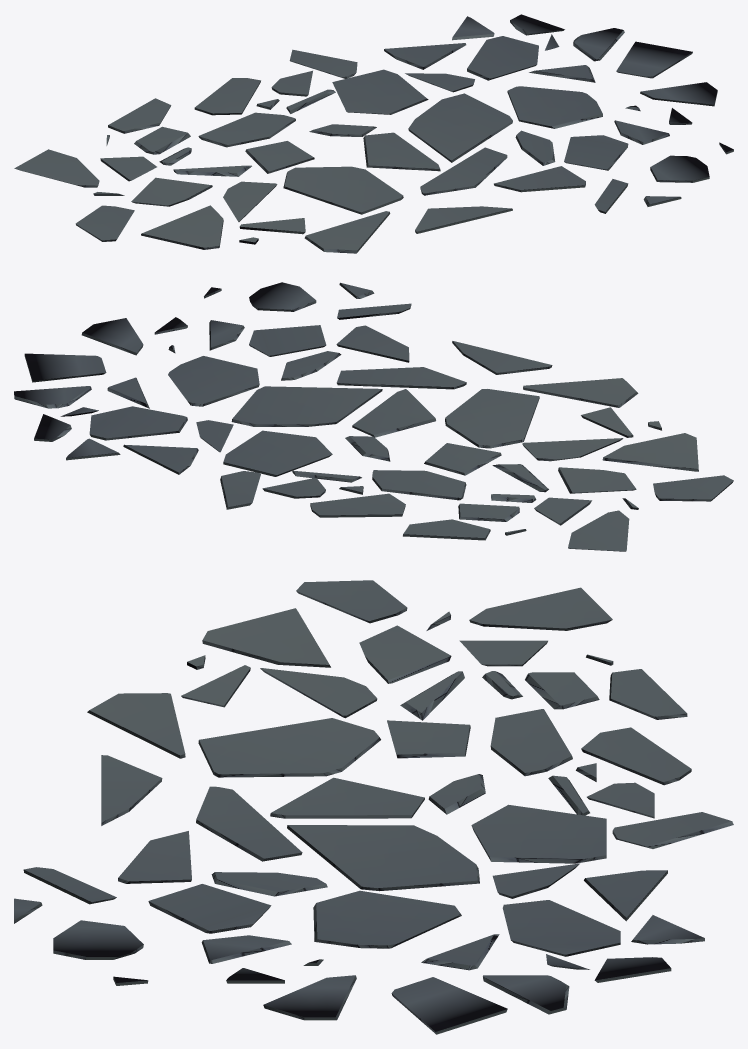
File: asset.glb
3 views of the same model, one above another, from view 1: azimuth 30°, elevation 25°; view 2: azimuth 150°, elevation 25°; view 3: azimuth 270°, elevation 25° (orthographic). The views are drawn at different scales.
Visible parts, largest first — view 1: Cube_cell.036, Cube_cell.017, Cube_cell.026, Cube_cell.037, Cube_cell.009, Cube_cell.052, Cube_cell.005, Cube_cell.025, Cube_cell.004, Cube_cell.032, Cube_cell.039, Cube_cell.045 (+27 smaller); view 2: Cube_cell.036, Cube_cell.017, Cube_cell.037, Cube_cell.026, Cube_cell.009, Cube_cell.052, Cube_cell.025, Cube_cell.005, Cube_cell.004, Cube_cell.032, Cube_cell.023, Cube_cell.039 (+27 smaller); view 3: Cube_cell.036, Cube_cell.017, Cube_cell.037, Cube_cell.026, Cube_cell.009, Cube_cell.052, Cube_cell.005, Cube_cell.025, Cube_cell.039, Cube_cell.004, Cube_cell.045, Cube_cell.023 (+27 smaller).
Boxes of the visible parts, x1,y1,x2,y2 form: Cube_cell.036: (408,93,512,162); Cube_cell.017: (283,166,403,214); Cube_cell.026: (507,86,602,128); Cube_cell.037: (332,69,428,114); Cube_cell.009: (467,36,538,80); Cube_cell.052: (141,205,223,249); Cube_cell.005: (363,132,440,171); Cube_cell.025: (420,147,507,195); Cube_cell.004: (198,112,295,147); Cube_cell.032: (304,211,390,253); Cube_cell.039: (14,149,99,187); Cube_cell.045: (564,135,628,170); Cube_cell.036: (231,386,382,426); Cube_cell.017: (445,389,539,448); Cube_cell.037: (223,430,332,476); Cube_cell.026: (168,356,259,406); Cube_cell.009: (89,406,187,440); Cube_cell.052: (602,433,698,471); Cube_cell.025: (336,367,466,389); Cube_cell.005: (352,389,435,437); Cube_cell.004: (372,470,466,500); Cube_cell.032: (523,378,638,407); Cube_cell.023: (24,353,106,382); Cube_cell.039: (568,510,629,551); Cube_cell.036: (287,825,479,891); Cube_cell.017: (198,718,380,777); Cube_cell.037: (471,804,606,863); Cube_cell.026: (313,890,461,948); Cube_cell.009: (502,900,620,956); Cube_cell.052: (202,608,330,667); Cube_cell.005: (270,777,424,818); Cube_cell.025: (196,786,302,861); Cube_cell.039: (469,587,612,630); Cube_cell.004: (490,709,572,776); Cube_cell.045: (148,884,271,933); Cube_cell.023: (391,977,507,1034).
Bounding box in the file's own units: 12.08 × 0.04 × 8.14.
1 material, 1 textured.
